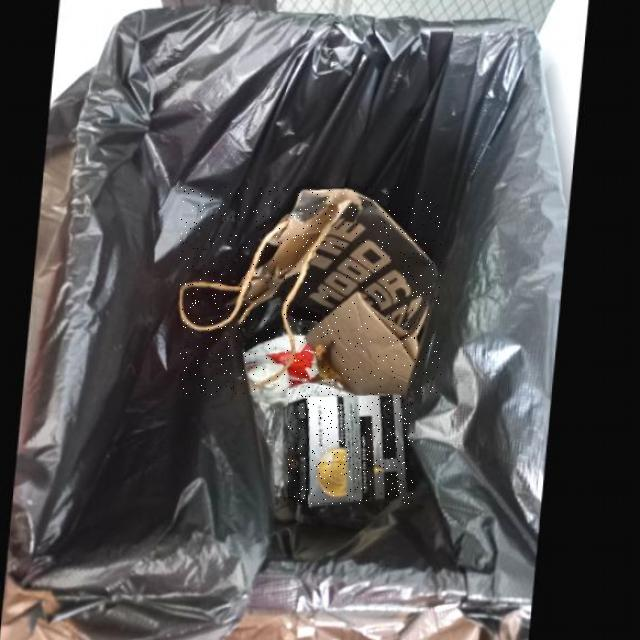paper: (181, 188, 441, 395), (289, 393, 413, 504)
